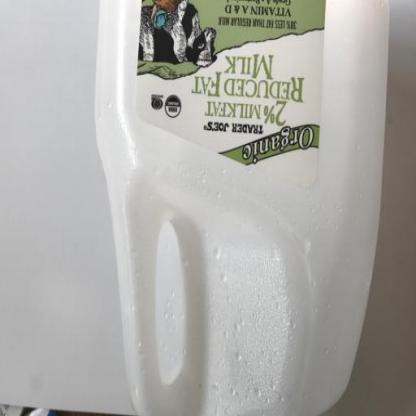trash: (95, 0, 393, 415)
